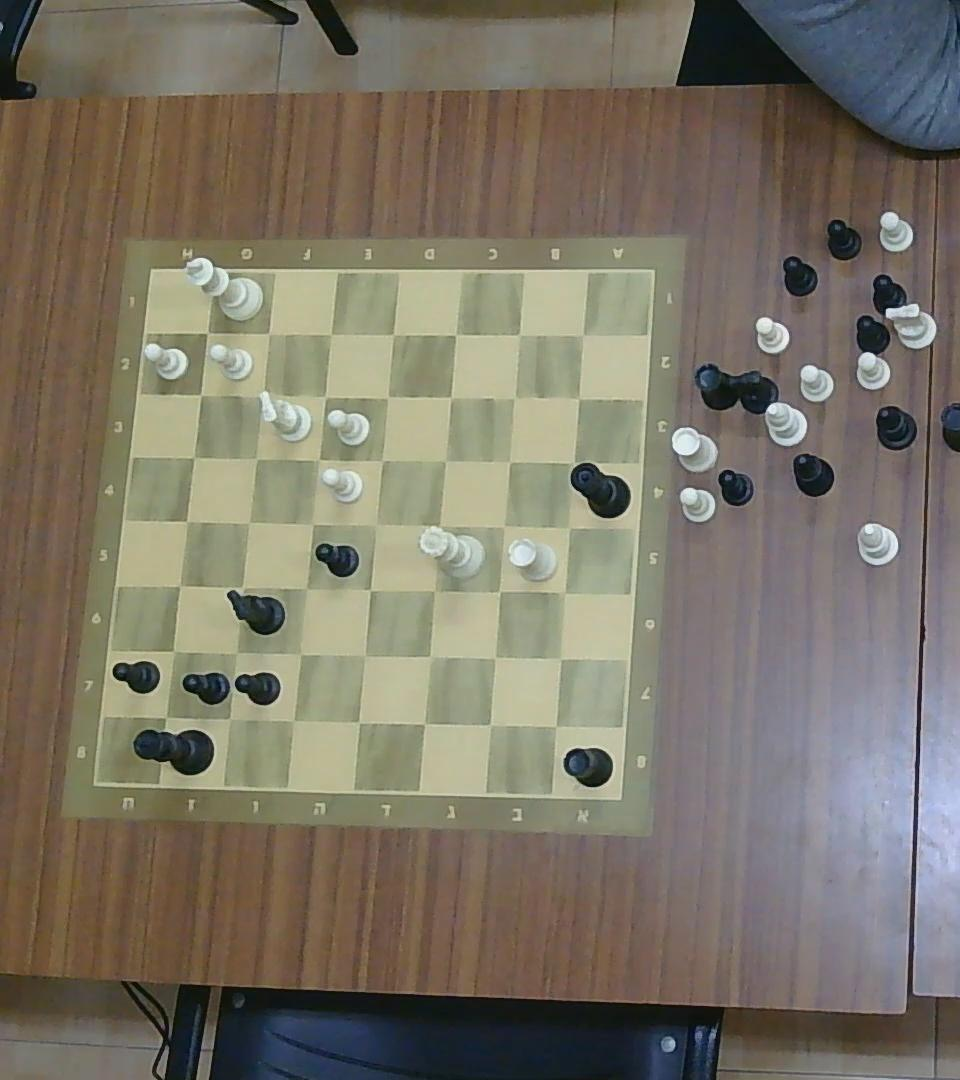xcorner: (279, 706, 305, 734), (215, 705, 241, 732), (411, 710, 437, 737), (153, 703, 179, 730), (417, 642, 443, 669), (477, 710, 503, 737), (543, 712, 569, 738), (352, 641, 377, 668), (547, 644, 572, 671), (486, 578, 511, 605), (369, 447, 394, 473), (167, 572, 192, 598), (287, 639, 311, 666), (379, 321, 404, 346), (346, 709, 371, 734), (481, 645, 506, 670), (558, 448, 583, 473), (375, 383, 399, 409), (174, 508, 198, 534), (491, 513, 515, 539), (421, 577, 445, 603), (426, 513, 450, 539), (223, 640, 247, 665), (358, 576, 382, 601), (552, 579, 576, 604), (294, 576, 318, 601), (229, 574, 253, 599), (196, 319, 219, 345), (162, 638, 185, 664), (557, 514, 581, 538), (236, 510, 259, 535), (438, 385, 461, 410), (318, 321, 341, 346), (300, 512, 323, 536), (497, 448, 520, 472), (364, 512, 387, 536), (257, 320, 280, 344), (188, 381, 211, 405), (570, 322, 594, 345), (443, 322, 466, 345), (306, 447, 329, 470), (508, 322, 531, 345), (250, 383, 273, 406), (182, 445, 204, 469), (245, 445, 267, 469), (433, 448, 455, 472), (313, 384, 335, 408), (503, 386, 524, 409), (567, 387, 588, 409)
